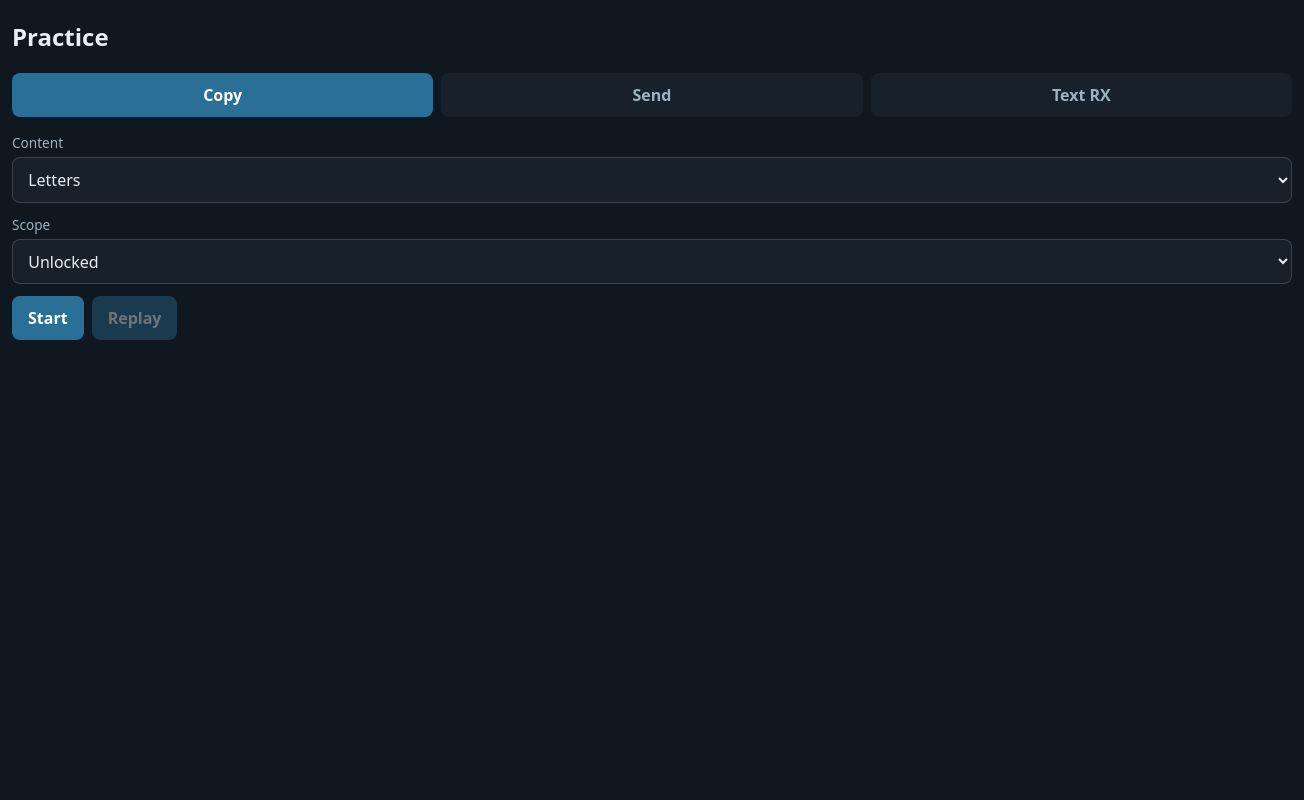
Scenario: SendPractice persistence › shows Imported Text RX from the Practice tabs
This screenshot has width=1304, height=800.
Click the tab "Text RX". click: (1081, 95)
box: [871,73,1292,117]
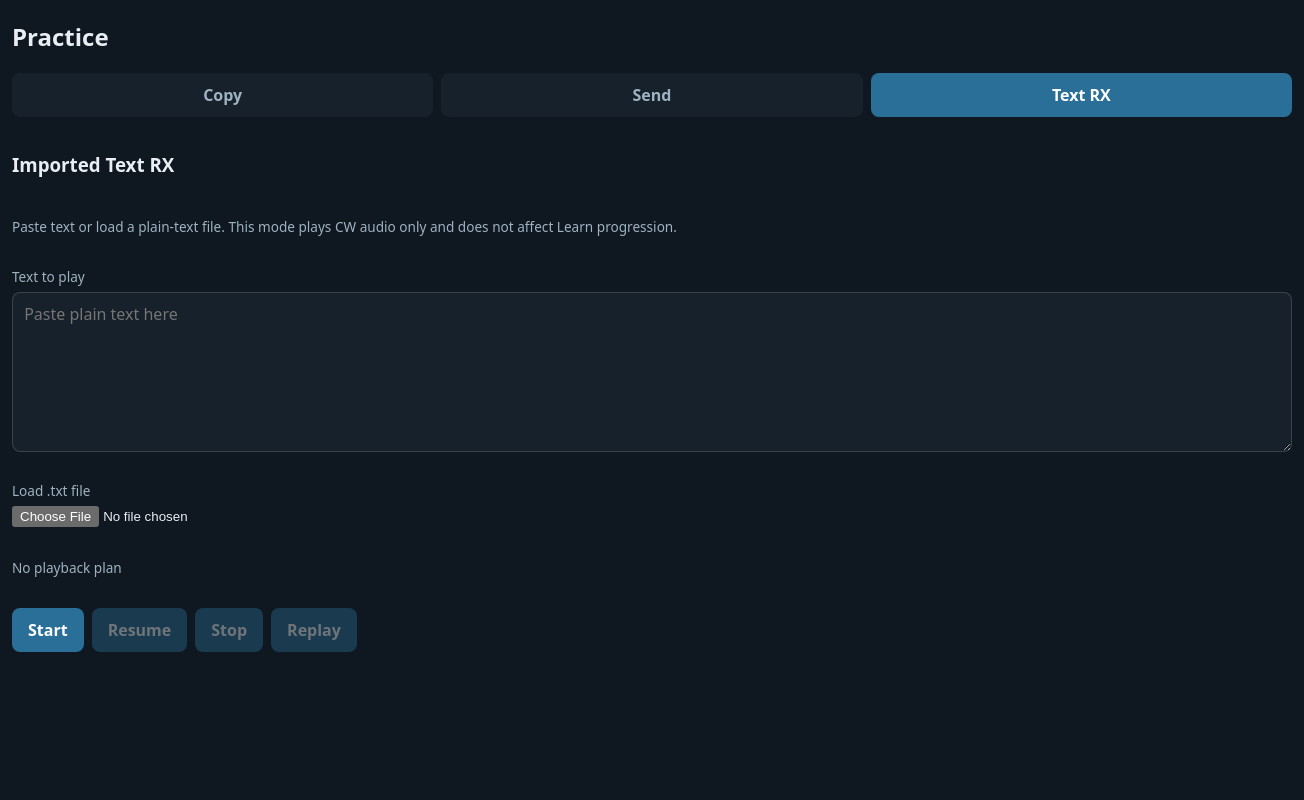
Expected: the heading "Imported Text RX" is shown, [12,152,174,176]
Expected: the text box named "Imported text" is shown, [12,292,1292,452]
